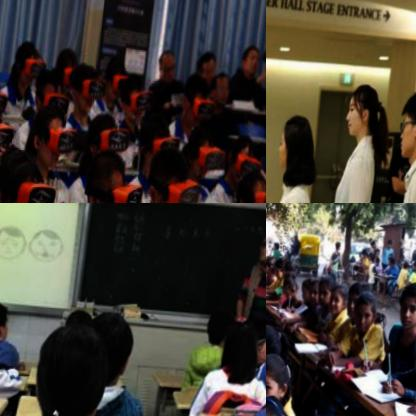head: (26, 319, 115, 416), (82, 307, 143, 391), (145, 140, 202, 203), (28, 103, 75, 171), (80, 151, 137, 203), (274, 114, 318, 177), (220, 317, 263, 379), (341, 85, 386, 137), (0, 148, 42, 203), (85, 108, 128, 160), (181, 126, 223, 178), (177, 69, 212, 127), (137, 112, 172, 170), (225, 130, 258, 185), (204, 299, 239, 349), (116, 73, 148, 123), (7, 37, 41, 83), (394, 91, 416, 160), (31, 65, 62, 112), (234, 34, 264, 81), (266, 356, 293, 407), (69, 64, 99, 109), (237, 159, 266, 203), (194, 46, 224, 88), (351, 292, 378, 333), (102, 52, 125, 98), (152, 44, 177, 86), (209, 68, 236, 105), (248, 314, 266, 367), (344, 282, 370, 318), (266, 324, 285, 373), (397, 282, 416, 329), (51, 44, 76, 78), (316, 275, 337, 307), (328, 282, 348, 313), (279, 270, 299, 299), (0, 297, 13, 341), (253, 224, 266, 262), (298, 275, 313, 303), (307, 277, 322, 305), (273, 257, 289, 278), (266, 253, 275, 273), (385, 235, 395, 247), (386, 255, 396, 265), (370, 236, 377, 247), (333, 240, 341, 249), (401, 257, 408, 267), (369, 253, 376, 262), (292, 232, 299, 241), (375, 255, 381, 264), (375, 247, 380, 255), (413, 260, 416, 272), (362, 251, 367, 257)
